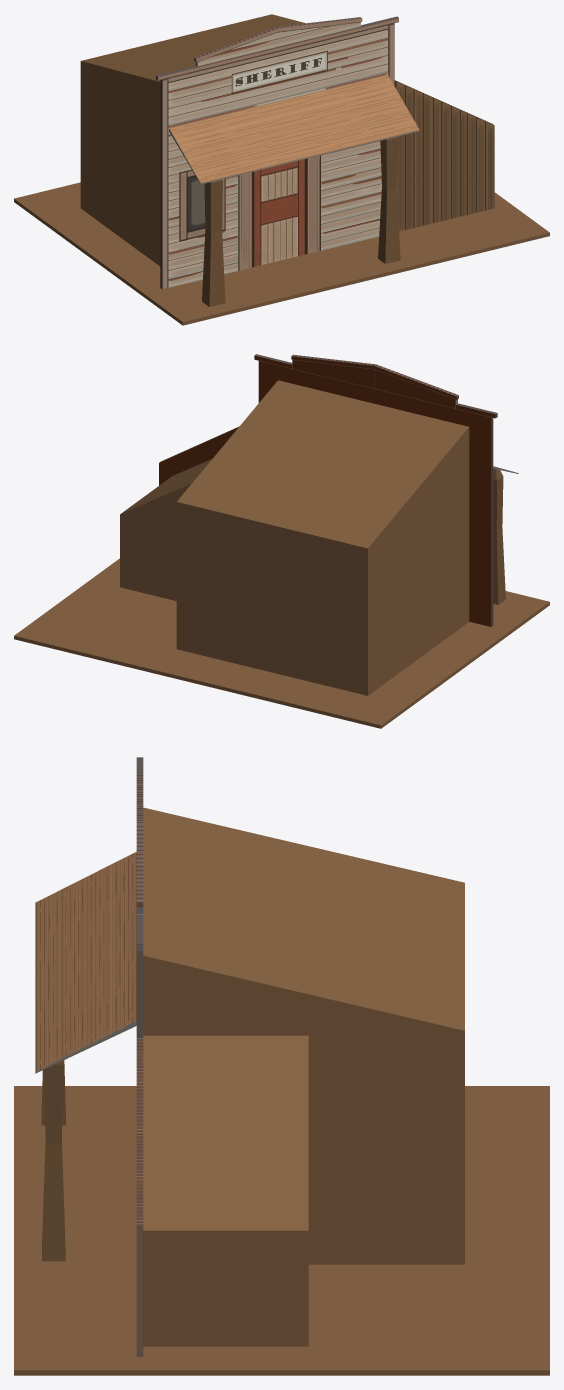
Rendered from SheriffsWBack_001.fbx.
3 views of the same model, one above another, from view 1: azimuth 30°, elevation 25°; view 2: azimuth 150°, elevation 25°; view 3: azimuth 270°, elevation 25° (orthographic). The views are drawn at different scales.
Parts seen in each view (by area): view 1: polySurface3, polySurface1, pCube11, polySurface5, polySurface8, polySurface7; view 2: pCube11, polySurface1, polySurface3, pCube12, polySurface8; view 3: pCube11, polySurface1, pCube12, polySurface5, polySurface3, polySurface7.
Boxes of the visible parts, x1,y1,x2,y2 form: polySurface3: [156, 16, 494, 289]; polySurface1: [14, 182, 549, 325]; pCube11: [80, 14, 305, 266]; polySurface5: [169, 74, 419, 184]; polySurface8: [202, 179, 225, 306]; polySurface7: [378, 136, 400, 263]; pCube11: [176, 380, 469, 695]; polySurface1: [14, 558, 549, 728]; polySurface3: [159, 354, 497, 626]; pCube12: [120, 459, 211, 600]; polySurface8: [493, 468, 505, 604]; pCube11: [143, 807, 464, 1264]; polySurface1: [14, 1086, 549, 1375]; pCube12: [143, 1035, 308, 1346]; polySurface5: [35, 852, 136, 1073]; polySurface3: [136, 757, 143, 1357]; polySurface7: [42, 1060, 65, 1261].
Size of the model in its own units: 42.66 by 26.24 by 33.99.
Materials: 4 (2 with a texture image).
